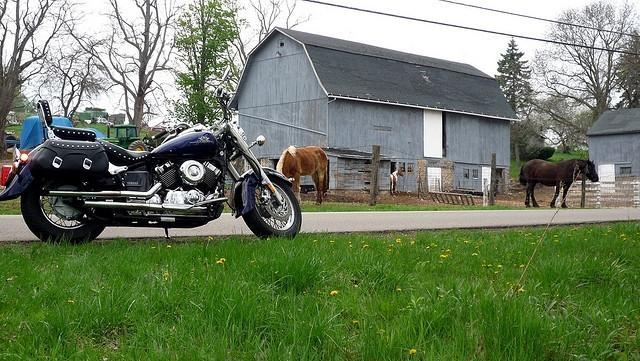motorcycle: (0, 85, 301, 245)
